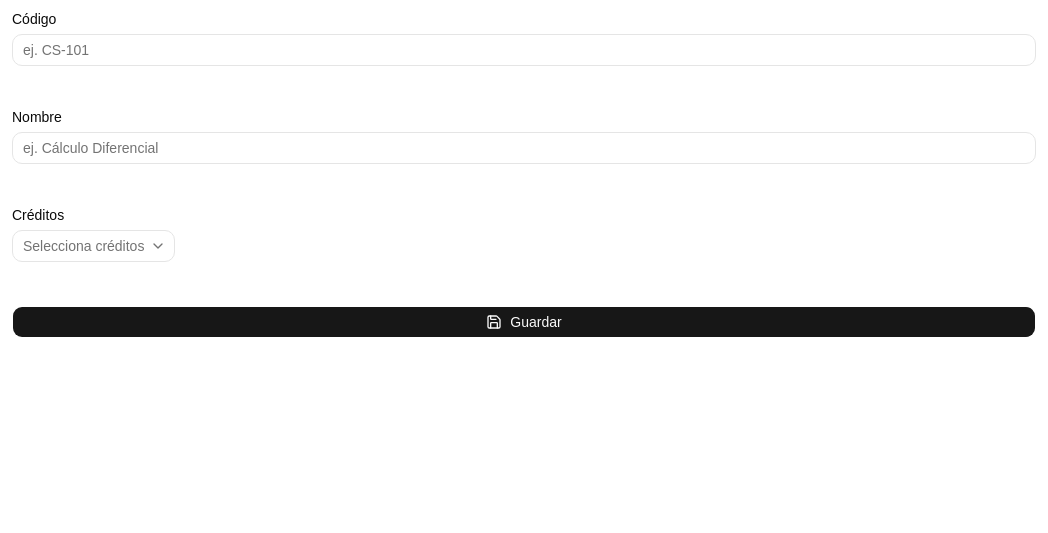
it: CourseForm › renders exactly 10 credit options (3–12)
Step 1. Click the dropdown → (94, 246), box [12, 230, 175, 262]
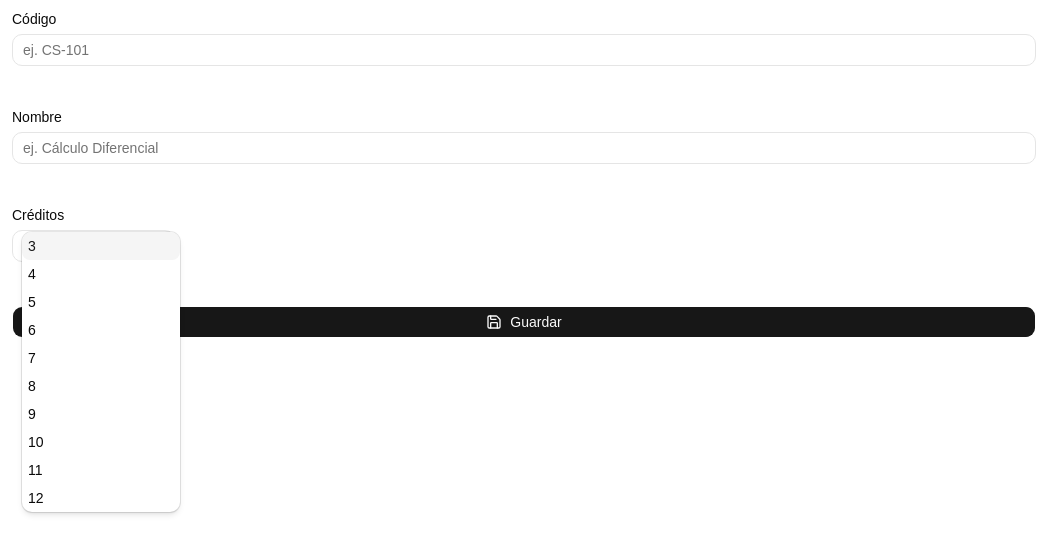
Expected: the number of options is 10
